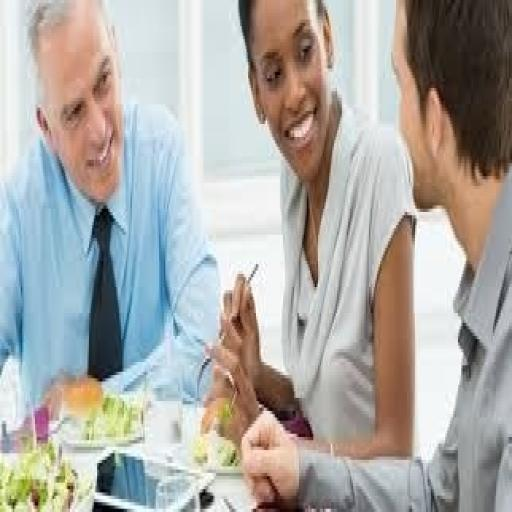eating: (238, 0, 510, 509), (0, 0, 224, 430)
